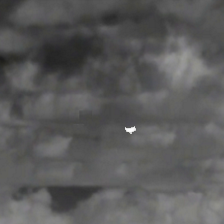Target: (125, 125, 137, 135)
